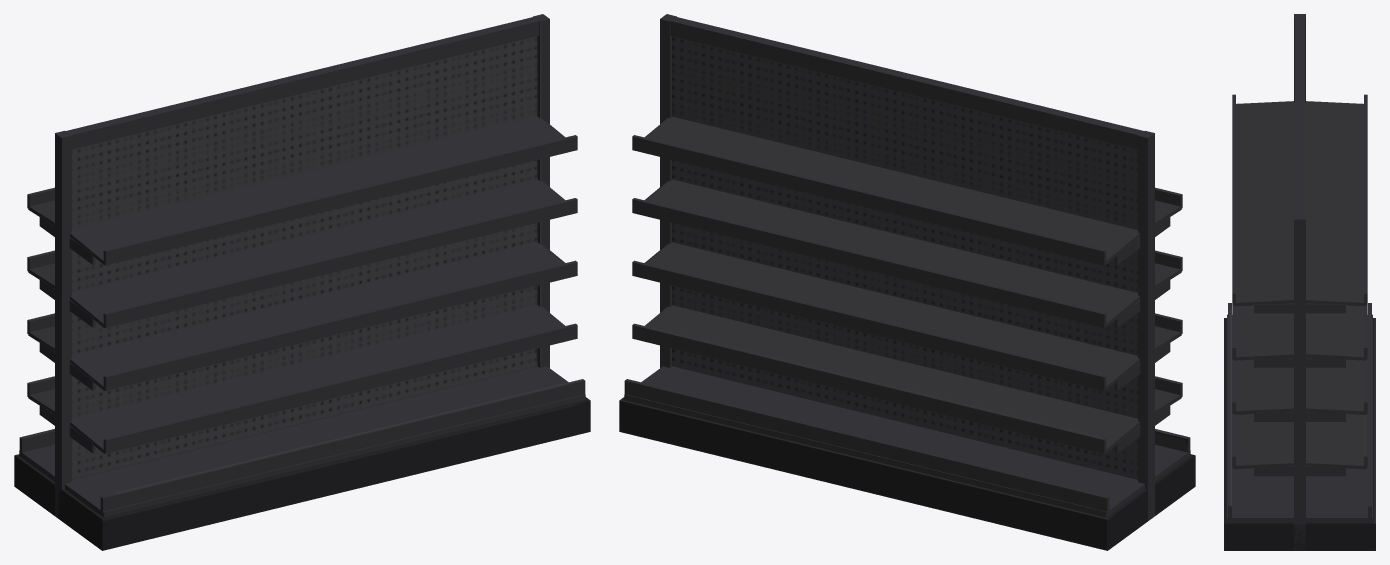
File: gasStationShelf1.glb
The picture shows the model from 3 angles, left to right: view 1: azimuth 30°, elevation 25°; view 2: azimuth 150°, elevation 25°; view 3: azimuth 270°, elevation 25°; orthographic projection. The views are drawn at different scales.
Visible parts, largest first — view 1: Gondola_2Side_L96in_H72in; view 2: Gondola_2Side_L96in_H72in; view 3: Gondola_2Side_L96in_H72in.
Boxes of the visible parts, bbox=[...] form: Gondola_2Side_L96in_H72in: bbox=[14, 14, 590, 550]; Gondola_2Side_L96in_H72in: bbox=[619, 14, 1195, 550]; Gondola_2Side_L96in_H72in: bbox=[1224, 14, 1375, 550].
Bounding box in the file's own units: 2.44 × 1.83 × 0.76.
Materials: 1 (1 with a texture image).
